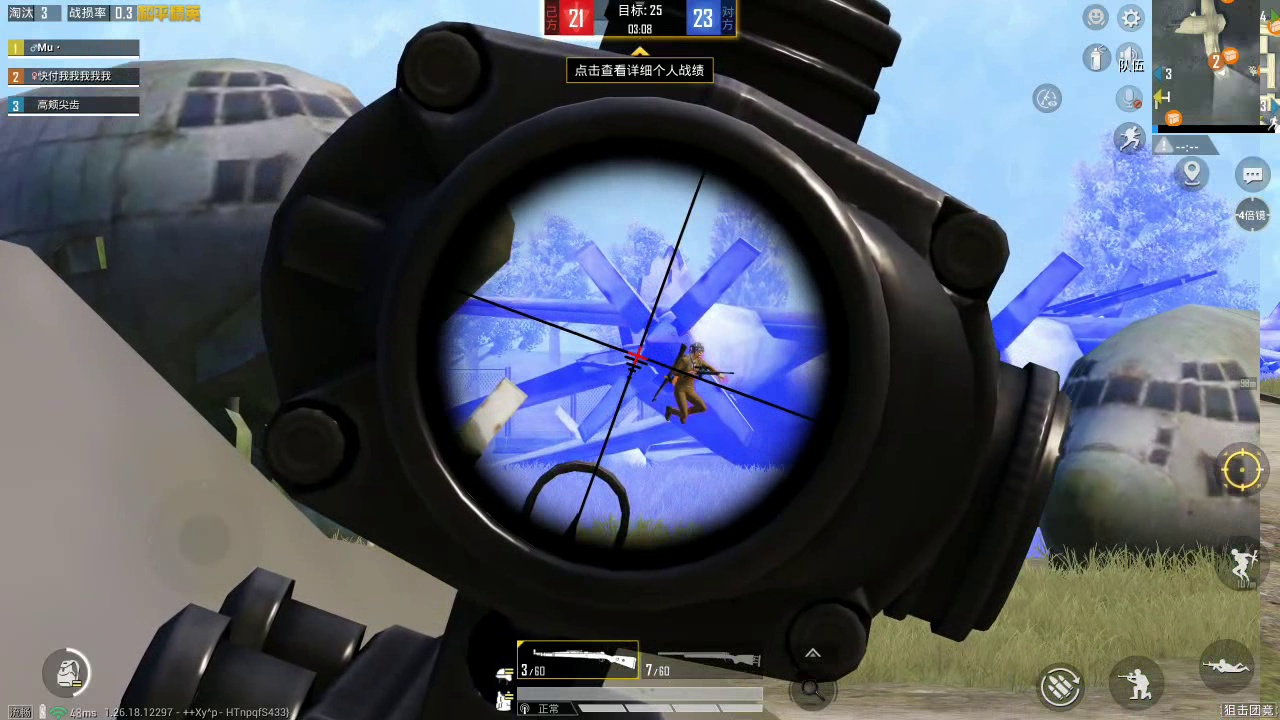enemy: (663, 341, 713, 421)
